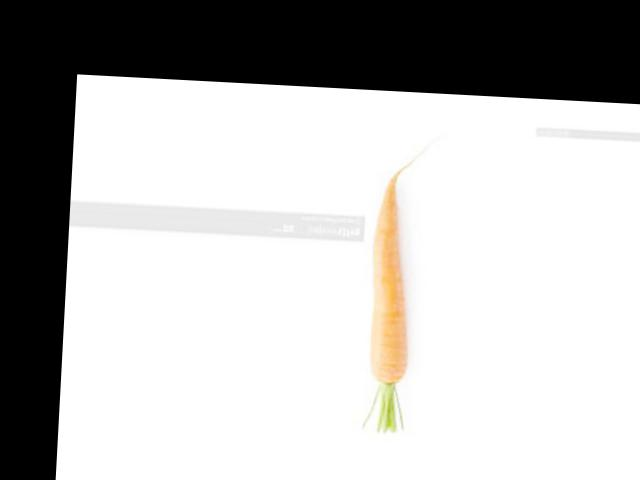carrot: (355, 165, 422, 396)
